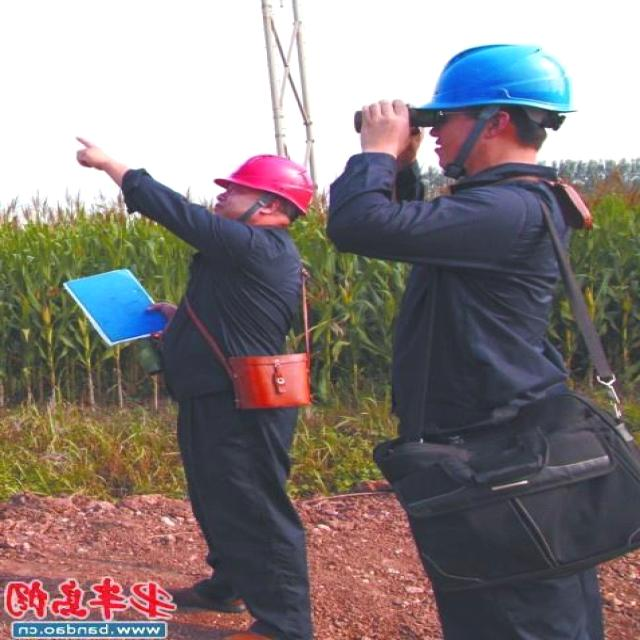face_nomask: (427, 106, 498, 172)
hand_noglove: (351, 96, 420, 151), (70, 134, 130, 184)
head_helmet: (411, 44, 577, 114), (213, 154, 321, 213)
person: (326, 40, 613, 638), (71, 140, 319, 634)
shoes: (166, 577, 245, 614)
